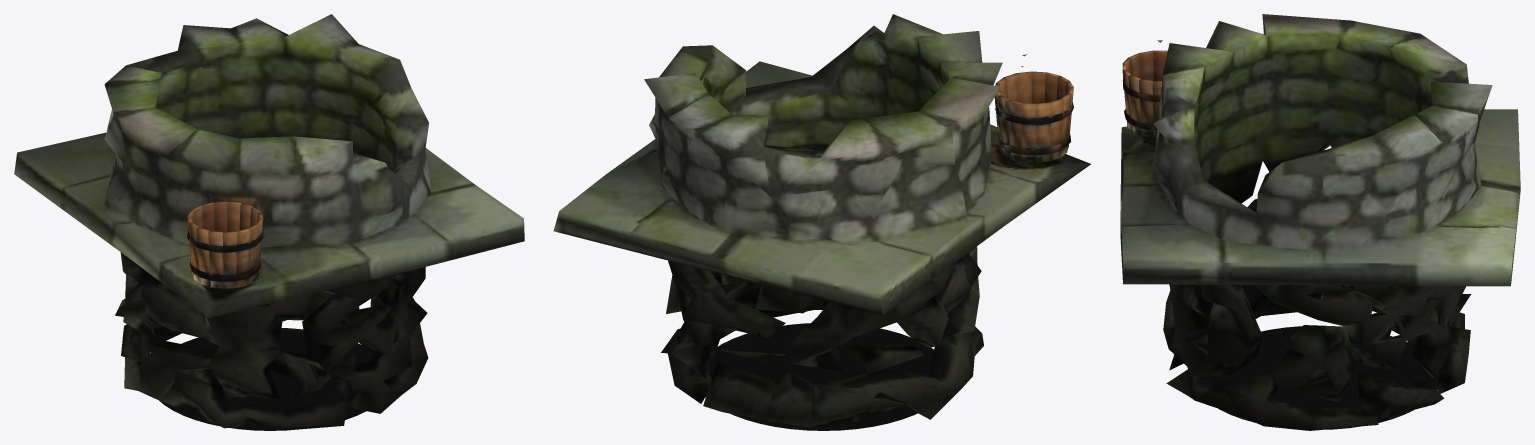
Rendered from well_broken_far.glb.
3 renders of one model, left to right at view 1: azimuth 30°, elevation 25°; view 2: azimuth 150°, elevation 25°; view 3: azimuth 270°, elevation 25°, orthographic. The views are drawn at different scales.
Parts seen in each view (by area): view 1: well_broken_lod1; view 2: well_broken_lod1; view 3: well_broken_lod1.
Boxes of the visible parts, left/top/right/bottom form: well_broken_lod1: left=14, top=14, right=524, bottom=430; well_broken_lod1: left=553, top=14, right=1090, bottom=430; well_broken_lod1: left=1120, top=14, right=1520, bottom=430.
Bounding box in the file's own units: 1.88 × 1.66 × 2.01.
Materials: 1 (1 with a texture image).
